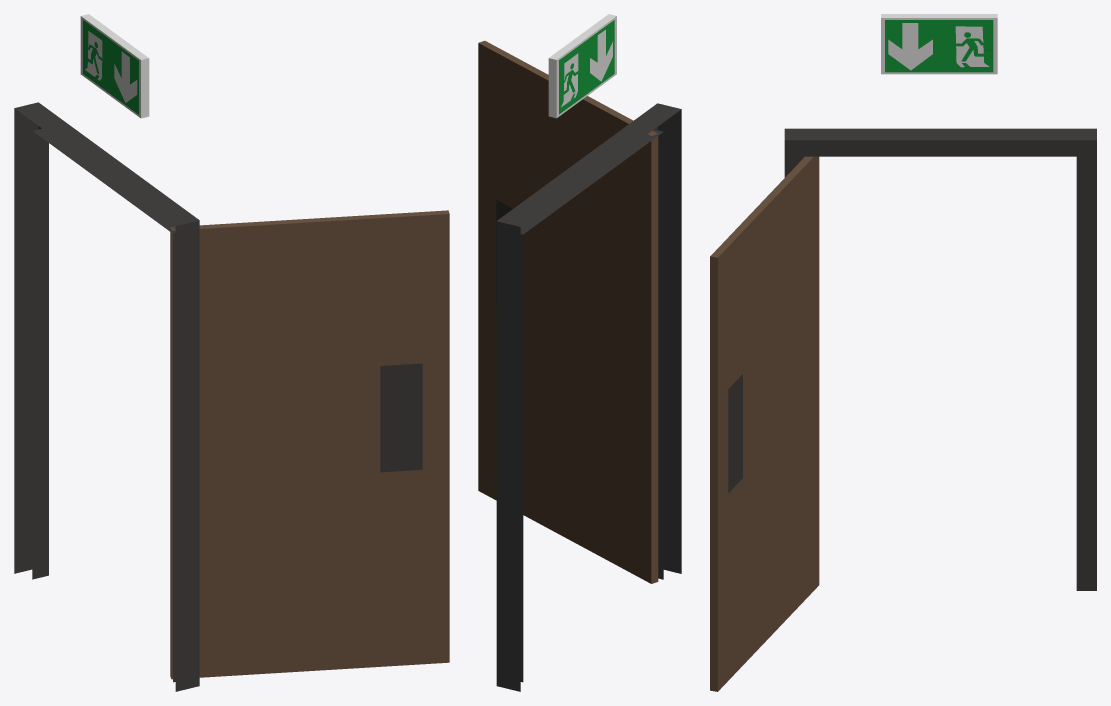
Rendered from Factory_CorridorExitDoor.fbx.
3 views of the same model, side by side, from view 1: azimuth 30°, elevation 25°; view 2: azimuth 150°, elevation 25°; view 3: azimuth 270°, elevation 25° (orthographic). The views are drawn at different scales.
Parts seen in each view (by area): view 1: CorridorExitDoor; view 2: CorridorExitDoor; view 3: CorridorExitDoor.
Boxes of the visible parts, <box> form: CorridorExitDoor: <box>14,14,449,691</box>; CorridorExitDoor: <box>478,14,681,691</box>; CorridorExitDoor: <box>710,14,1096,691</box>.
Bounding box in the file's own units: 109 × 259 × 159.
